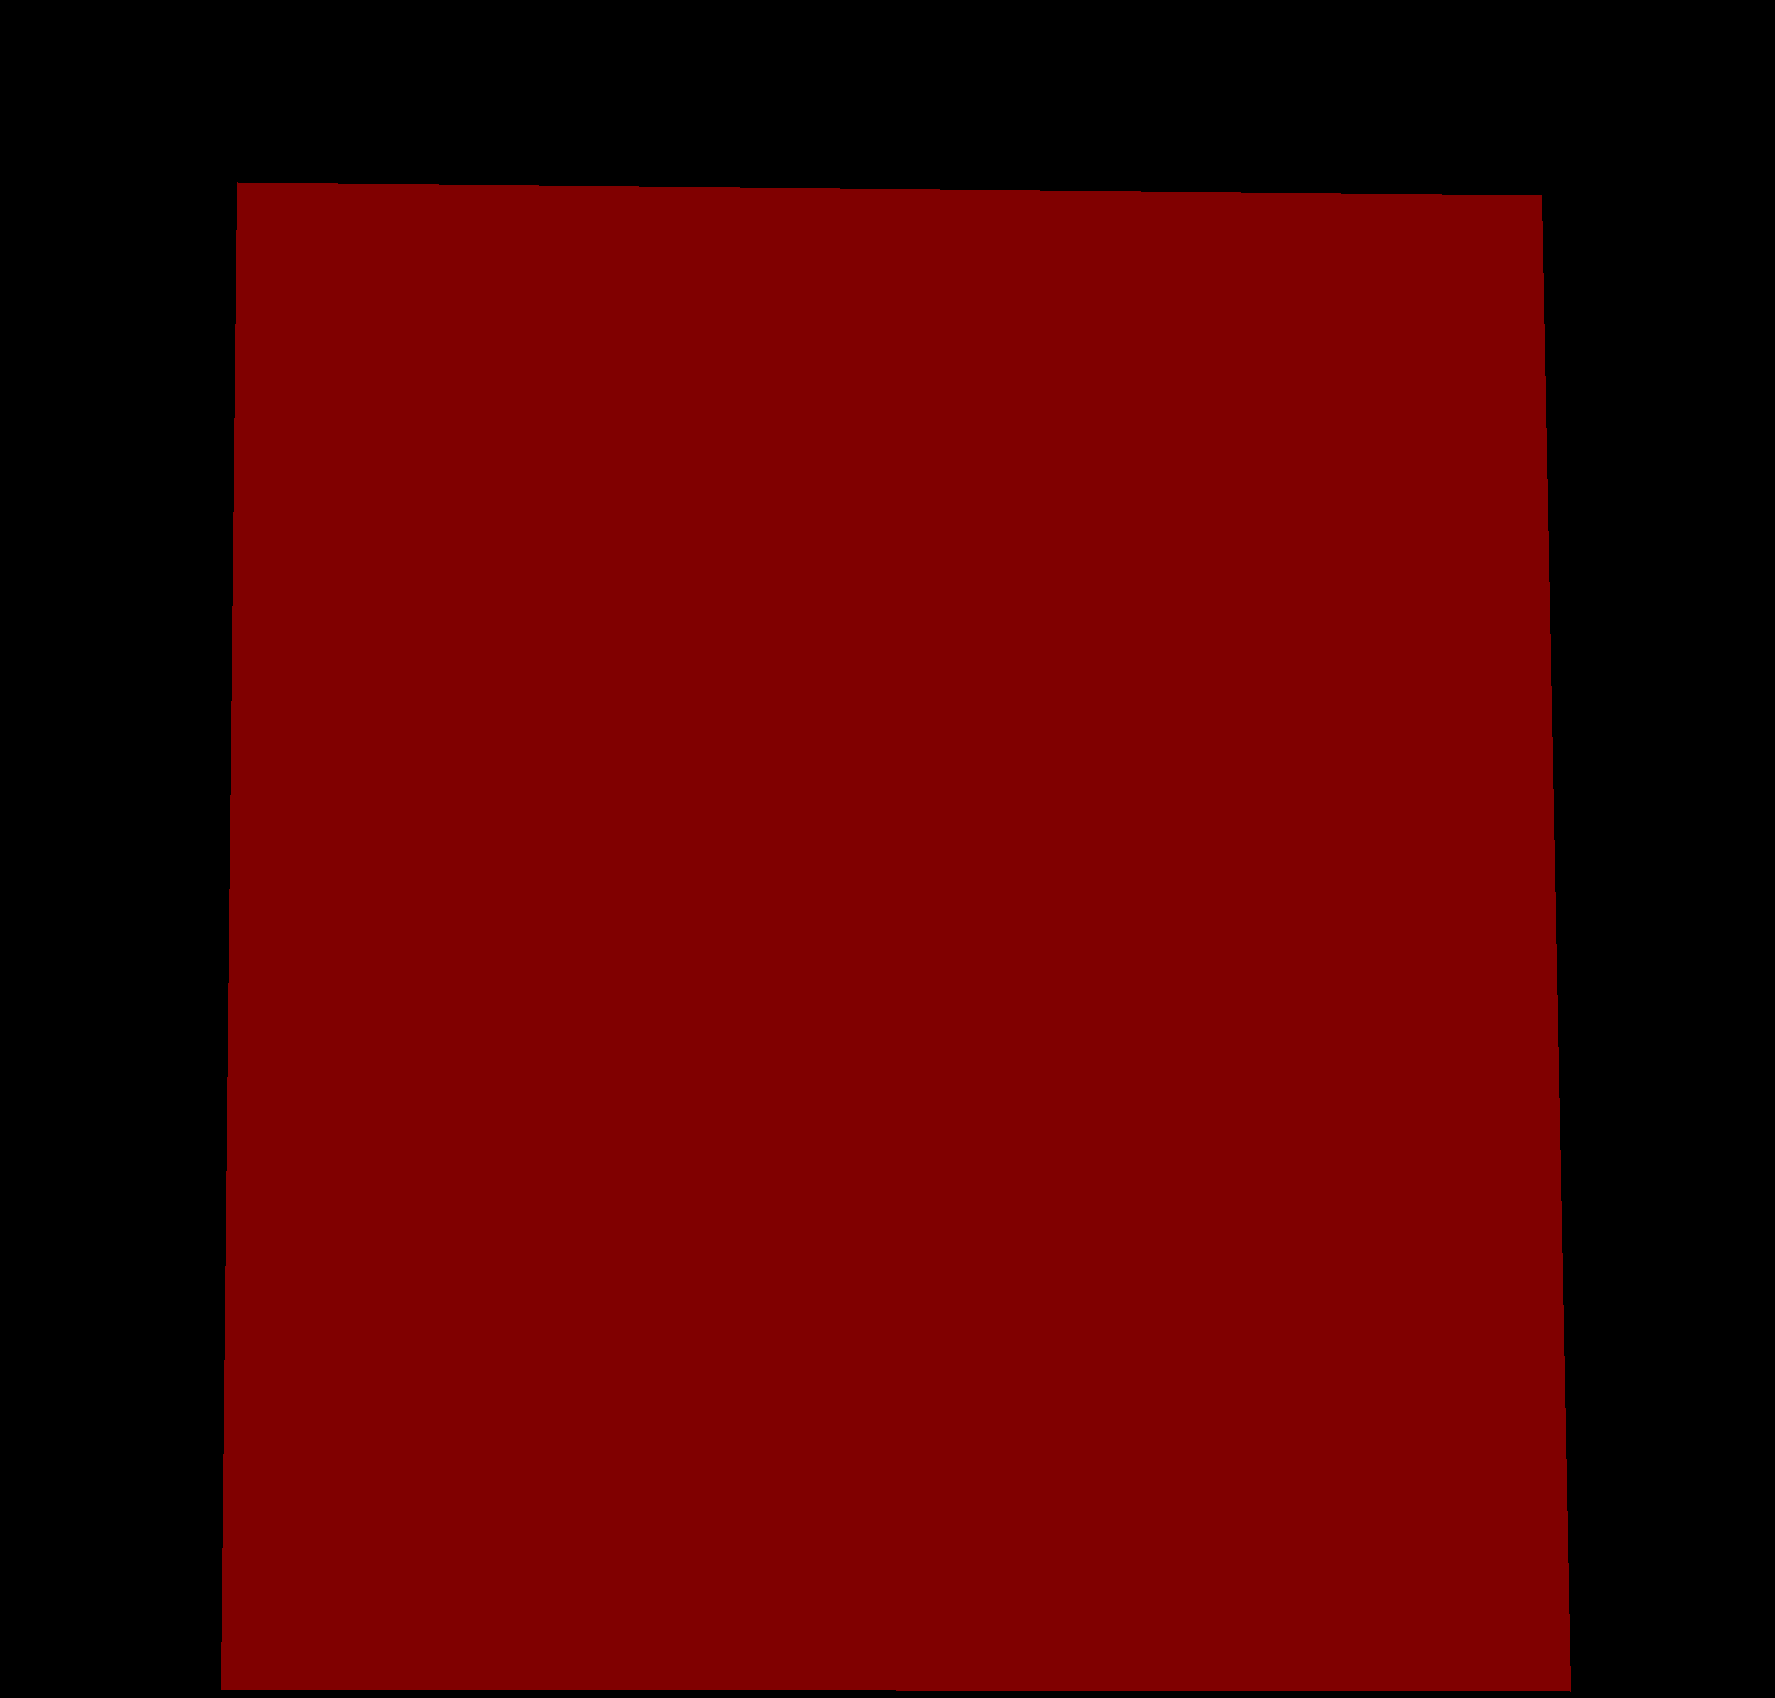sign: (220, 182, 1571, 1692)
